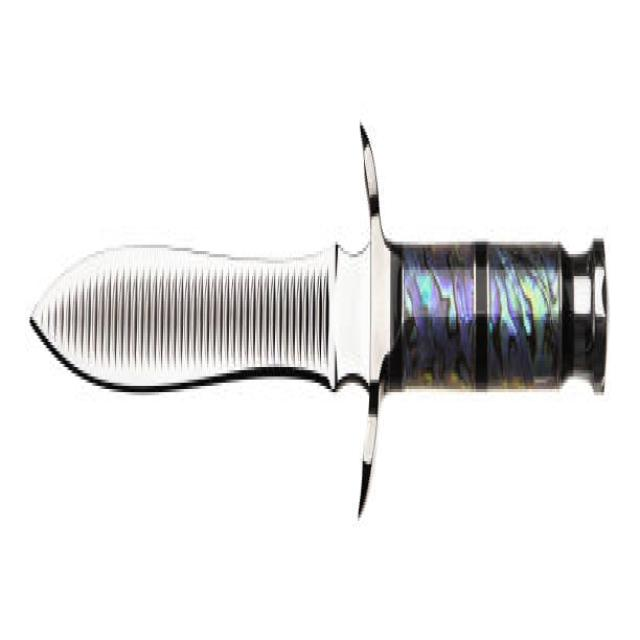knife: (23, 114, 617, 530)
